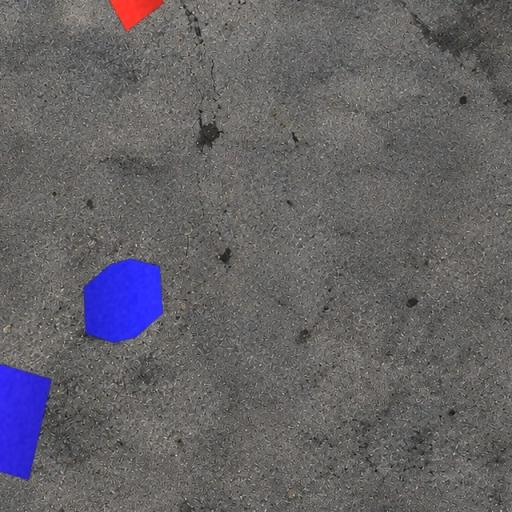BLUE_SQUARE: (0, 353, 52, 481)
RED_SQUARE: (102, 0, 164, 33)
